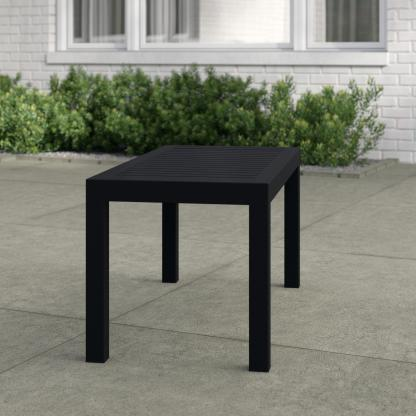table: (78, 136, 306, 378)
